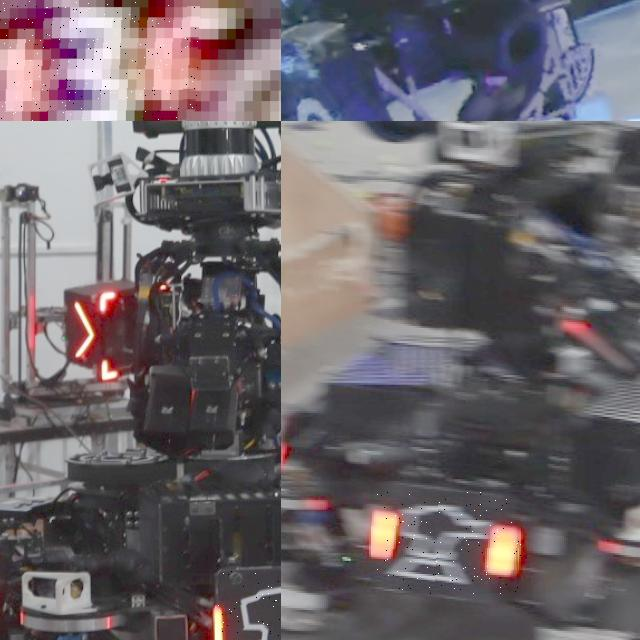R3: (0, 0, 201, 121)
Rs: (371, 492, 521, 594), (214, 571, 281, 640)
